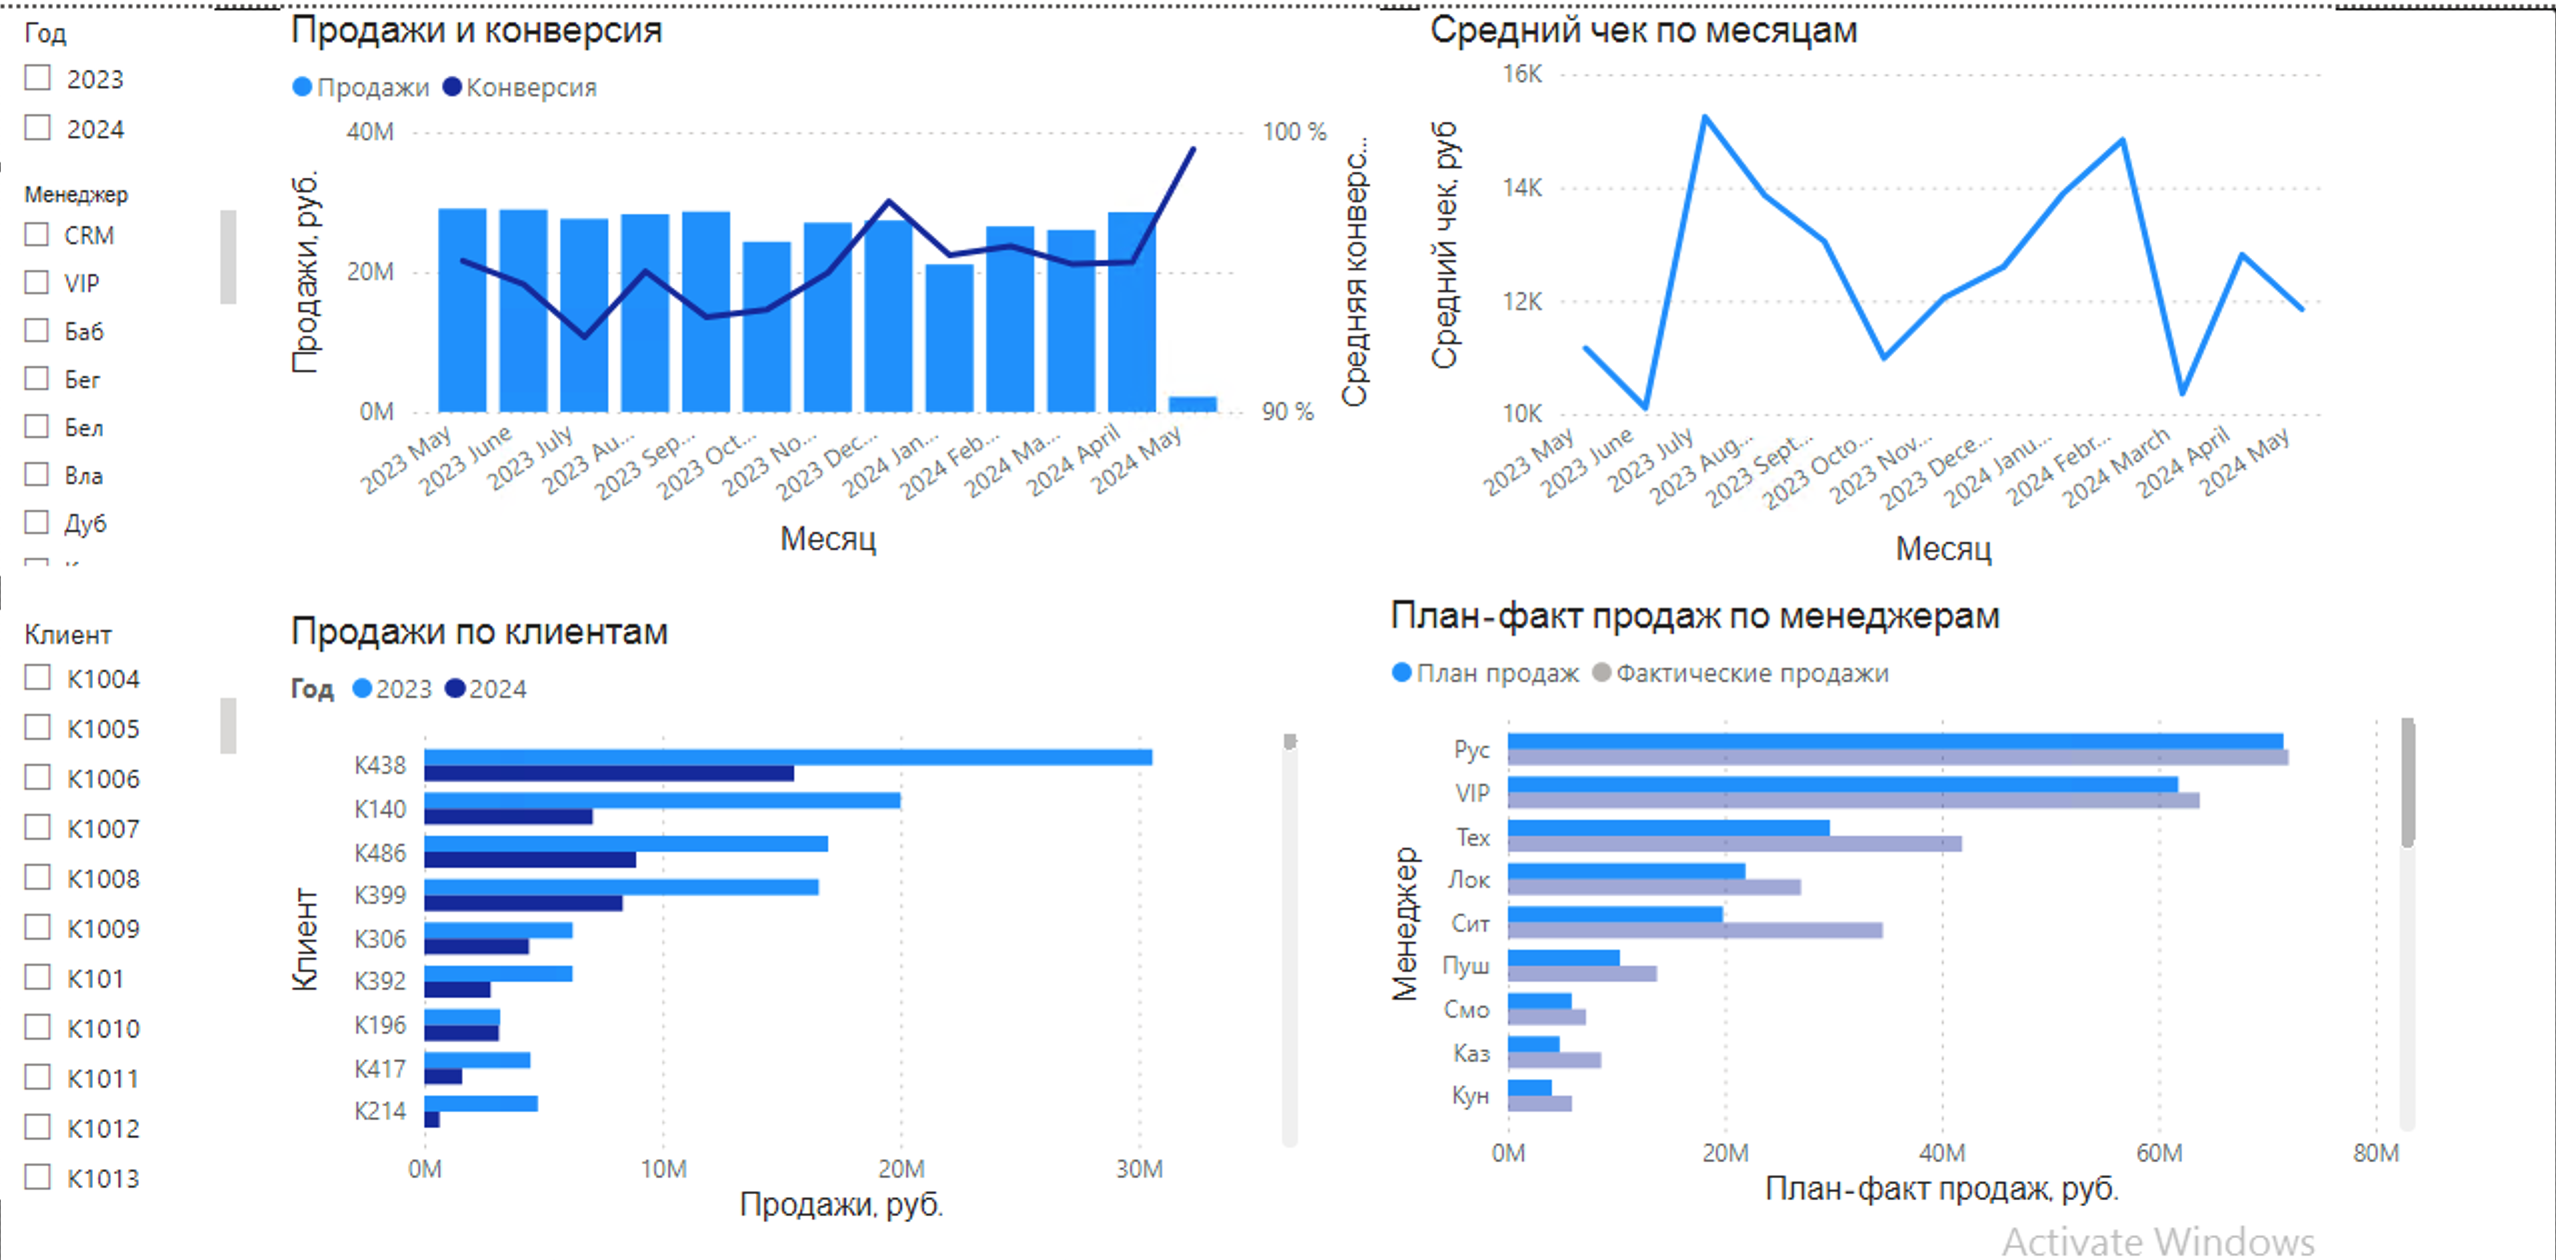

What the dashboard file says about the page in this screenshot:
{"tool":"powerbi","page":{"name":"Page 1","canvas":[1280,720],"ordinal":0},"visuals":[{"type":"clusteredBarChart","title":"План-факт продаж по менеджерам","fields":{"Category":["BI-тест 2 (2).Клиентский менеджер"],"Y":["BI-тест 2 (2).План продаж","BI-тест 2 (2).Сумма продаж"]},"box":[691,293,523,311],"z":0},{"type":"lineStackedColumnComboChart","title":"Продажи и конверсия","fields":{"Y":["BI-тест 2 (2).Сумма продаж"],"Y2":["BI-тест 2 (2).Conversion"],"Category":["BI-тест 2 (2).M-Y.Variation.Date Hierarchy.Year","BI-тест 2 (2).M-Y.Variation.Date Hierarchy.Month"]},"box":[141,0,550,279],"z":1000},{"type":"slicer","fields":{"Values":["BI-тест 2 (2).Год"]},"box":[0,0,108,77],"z":2000},{"type":"slicer","fields":{"Values":["BI-тест 2 (2).Клиентский менеджер"]},"box":[0,82,124,202],"z":3000},{"type":"lineChart","title":"Средний чек по месяцам","fields":{"Category":["BI-тест 2 (2).M-Y.Variation.Date Hierarchy.Year","BI-тест 2 (2).M-Y.Variation.Date Hierarchy.Month","BI-тест 2 (2).Клиентский менеджер"],"Y":["BI-тест 2 (2).Av Bill"]},"box":[711,0,458,284],"z":4000},{"type":"clusteredBarChart","title":"Продажи по клиентам","fields":{"Category":["BI-тест 2 (2).Клиент"],"Y":["BI-тест 2 (2).Сумма продаж"],"Series":["BI-тест 2 (2).Год"]},"box":[141,301,514,311],"z":6000},{"type":"slicer","fields":{"Values":["BI-тест 2 (2).Клиент"]},"box":[0,301,124,295],"z":7000}]}

Visuals, with their boxes on the page's 1280x720 design canvas (x1, y1, x2, y2). These are canvas units, not pixel positions in the 2556x1260 screenshot, which may show the page scaled, cropped or inside an application window:
"План-факт продаж по менеджерам" clusteredBarChart: x1=691, y1=293, x2=1214, y2=604
"Продажи и конверсия" lineStackedColumnComboChart: x1=141, y1=0, x2=691, y2=279
slicer - BI-тест 2 (2).Год: x1=0, y1=0, x2=108, y2=77
slicer - BI-тест 2 (2).Клиентский менеджер: x1=0, y1=82, x2=124, y2=284
"Средний чек по месяцам" lineChart: x1=711, y1=0, x2=1169, y2=284
"Продажи по клиентам" clusteredBarChart: x1=141, y1=301, x2=655, y2=612
slicer - BI-тест 2 (2).Клиент: x1=0, y1=301, x2=124, y2=596
